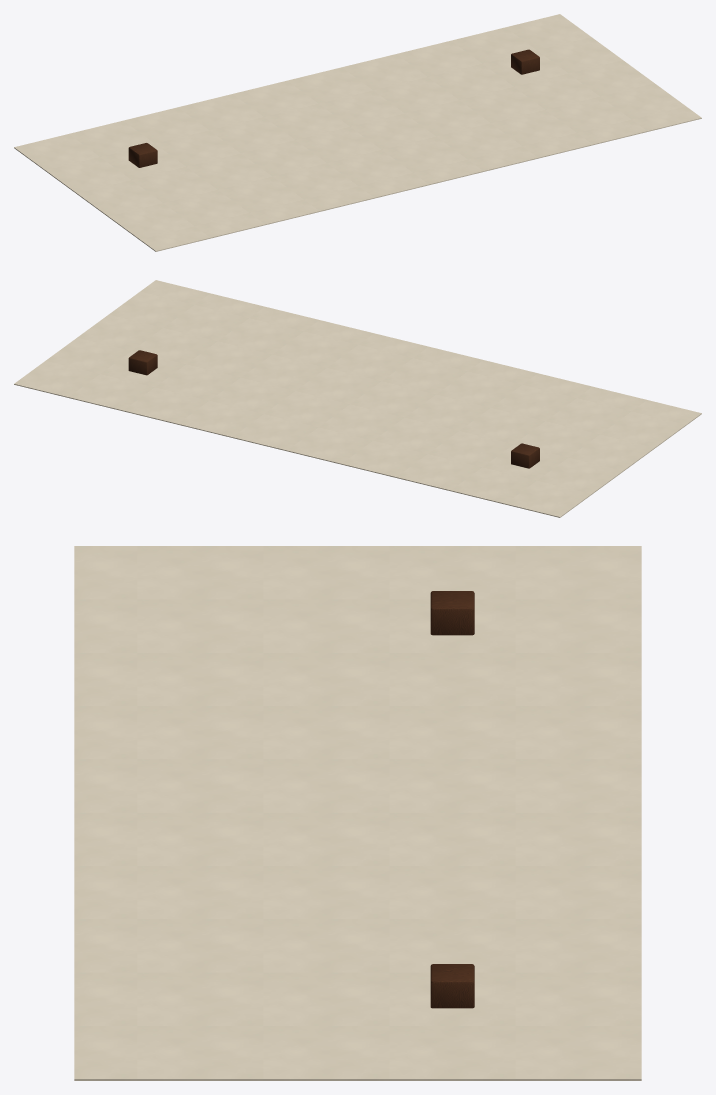
File: kr_plaza.glb
The picture shows the model from 3 angles, top to bottom: view 1: azimuth 30°, elevation 25°; view 2: azimuth 150°, elevation 25°; view 3: azimuth 270°, elevation 25°; orthographic projection. The views are drawn at different scales.
Parts seen in each view (by area): view 1: kr_plaza_plaster, kr_plaza_darkwood; view 2: kr_plaza_plaster, kr_plaza_darkwood; view 3: kr_plaza_plaster, kr_plaza_darkwood.
Boxes of the visible parts, x1,y1,x2,y2 form: kr_plaza_plaster: [14, 14, 701, 251]; kr_plaza_darkwood: [128, 49, 539, 167]; kr_plaza_plaster: [14, 280, 701, 517]; kr_plaza_darkwood: [128, 350, 539, 468]; kr_plaza_plaster: [74, 546, 641, 1080]; kr_plaza_darkwood: [430, 591, 474, 1008].
Size of the model in its own units: 40 by 1 by 18.
Materials: 2 (2 with a texture image).
